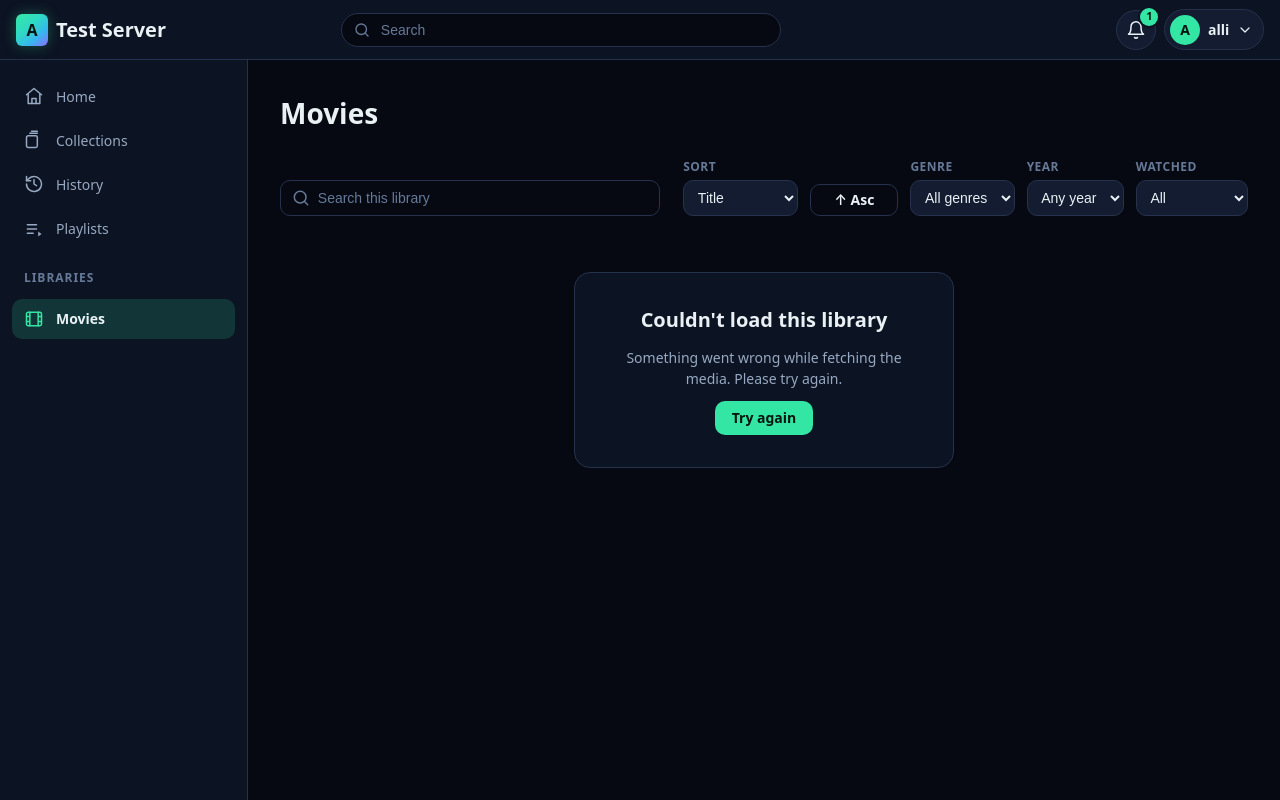
Test case: LibraryPage — grid & states › shows an error state with a working retry
The image size is (1280, 800).
Check: the heading "Couldn't load this library" is shown, box x1=641 y1=305 x2=887 y2=335
What coordinates should you click on to do the following:
click the button "Try again"
I would click on:
 (764, 418)
Its box is x1=715 y1=401 x2=813 y2=435.
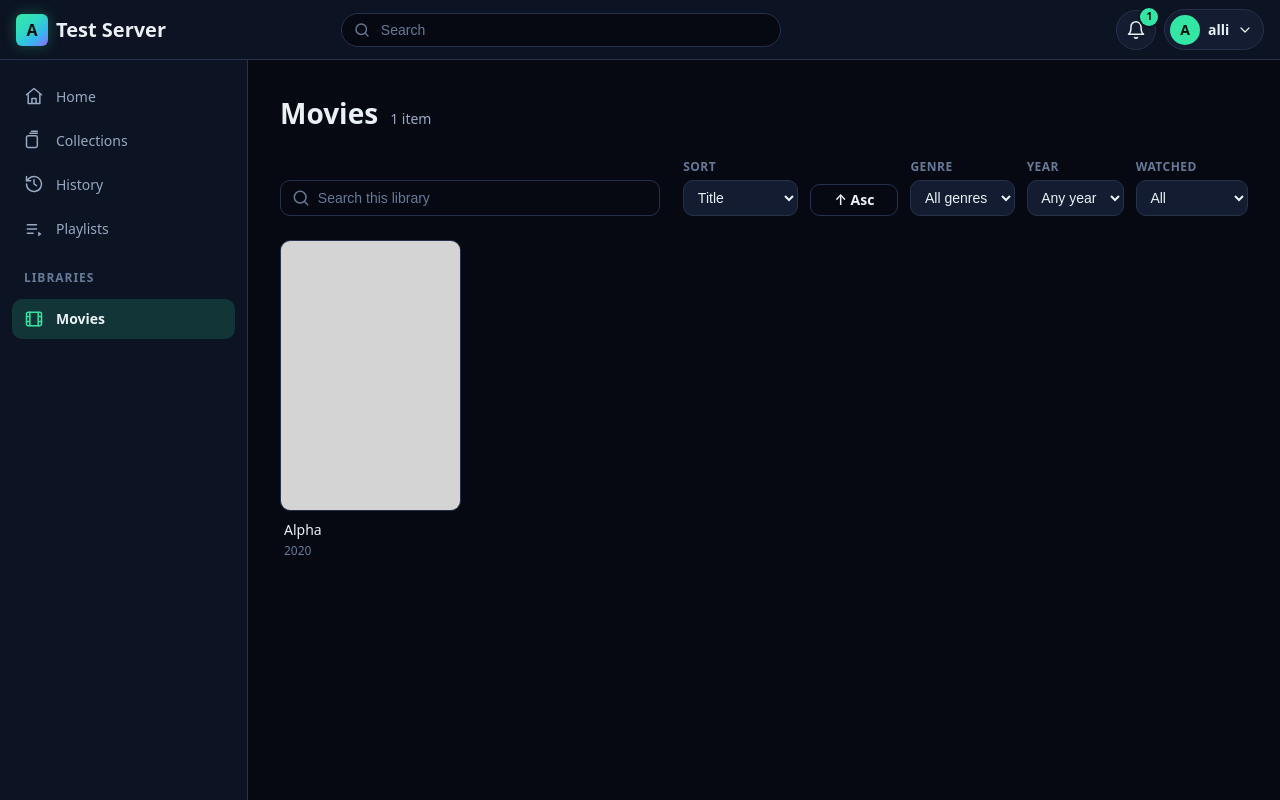
Check: the text "Alpha" is shown, box x1=284 y1=520 x2=322 y2=539
